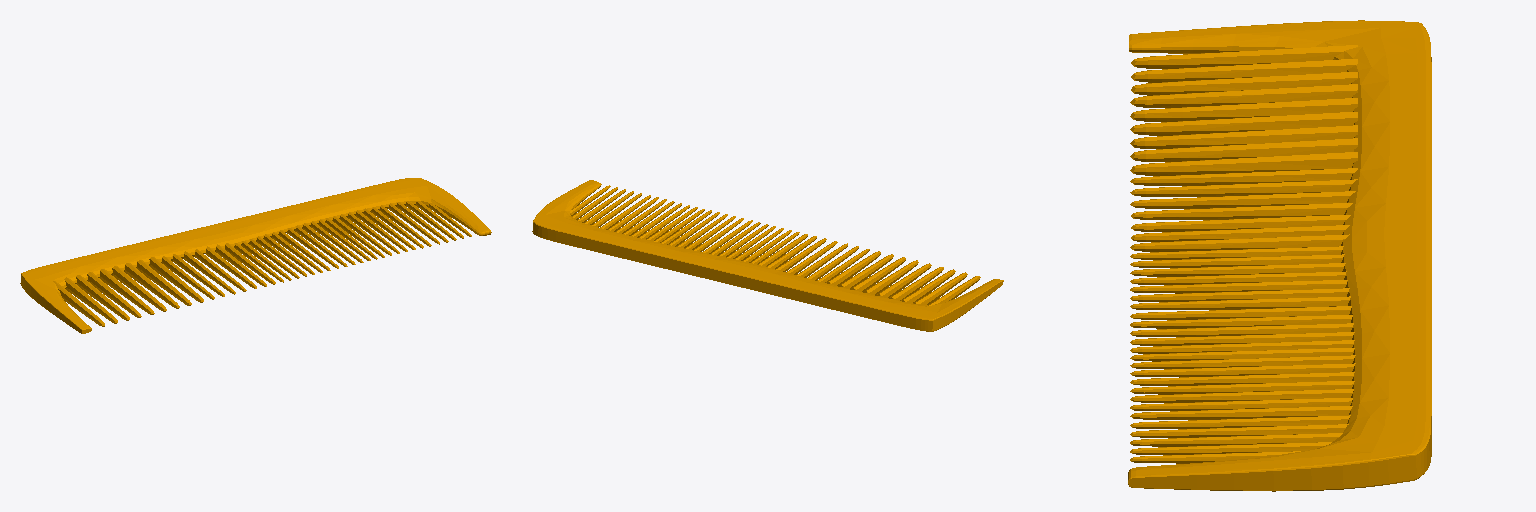
robot.urdf — none:
<robot name="none">
       <link name="none">
           <visual>
               <origin rpy="1.57 0 0" xyz="0 0 0" />
               <geometry>
                   <mesh filename="comb.obj" />
               </geometry>
           </visual>
          <collision>
              <geometry>
                  <box size="1.000000 0.030727 0.288292" />
              </geometry>
          </collision>

          <inertial>
            <mass value="0.0" />
            <inertia ixx="0.0" ixy="0.0" ixz="0.0" iyy="0.0" iyz="0.0" izz="0.0" />
          </inertial>
      </link>
  </robot>

--- What the picture shows (computed from the rendered views, not written in the file) ---
The picture shows the robot from 3 angles, left to right: view 1: azimuth 30°, elevation 25°; view 2: azimuth 150°, elevation 25°; view 3: azimuth 270°, elevation 25°; orthographic projection.
Robot: none — 1 links, 0 joints (none); root link none; default pose: all joints at 0.
Visible links, largest first — view 1: none; view 2: none; view 3: none.
Link boxes in pixels (bbox=[...]): none: bbox=[20, 178, 491, 333]; none: bbox=[532, 180, 1003, 331]; none: bbox=[1128, 20, 1431, 491].
Bounding box of the posed robot: 1 × 0.2883 × 0.0306 m (x, y, z).
Meshes: 1 distinct files referenced, 1 mesh visuals loaded (1 OBJ).